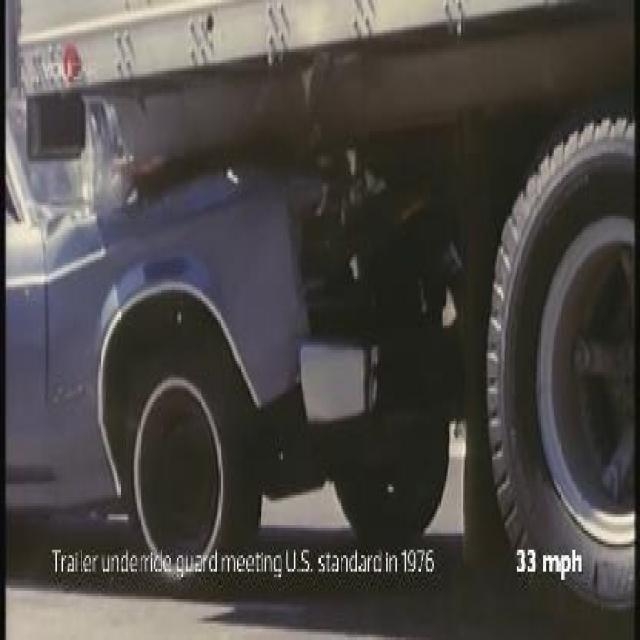accident: (3, 0, 638, 615)
